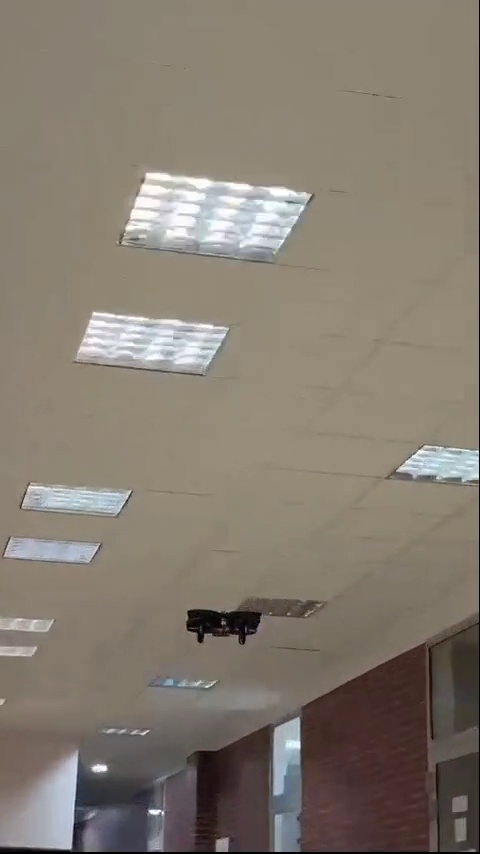drone: (182, 604, 265, 650)
